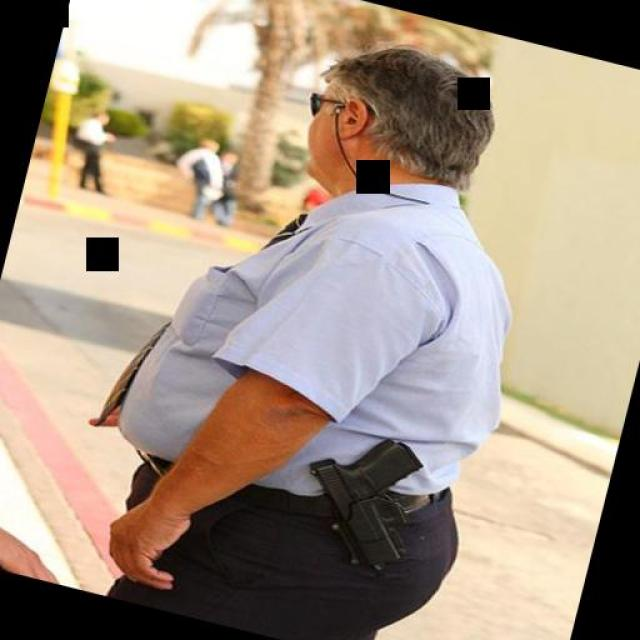gun: (280, 416, 435, 580)
